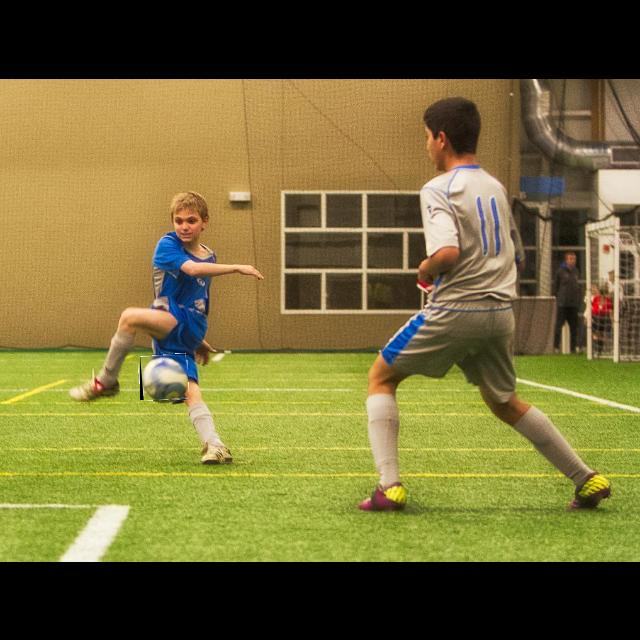Football: (140, 354, 188, 400)
